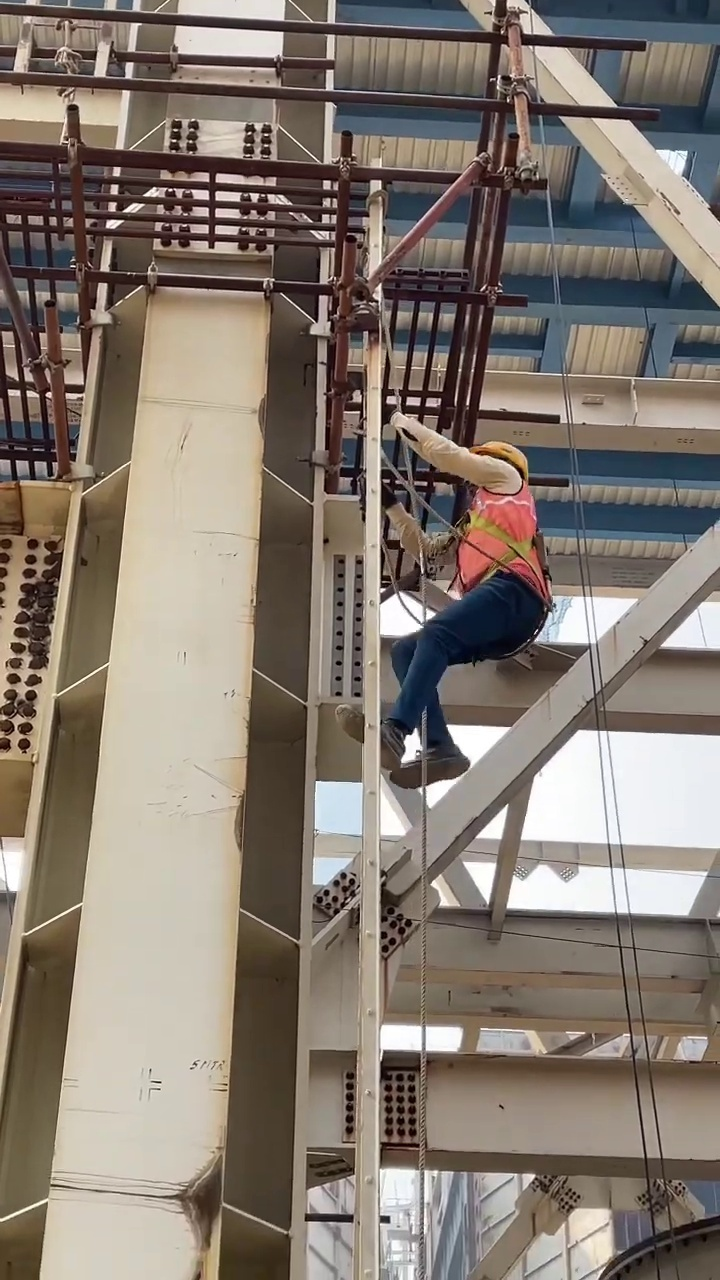Helmet: (477, 441, 528, 474)
Person: (333, 442, 551, 793)
Safety_Harness: (447, 482, 551, 604)
Safety_shoes: (335, 703, 403, 772), (388, 749, 471, 787)
